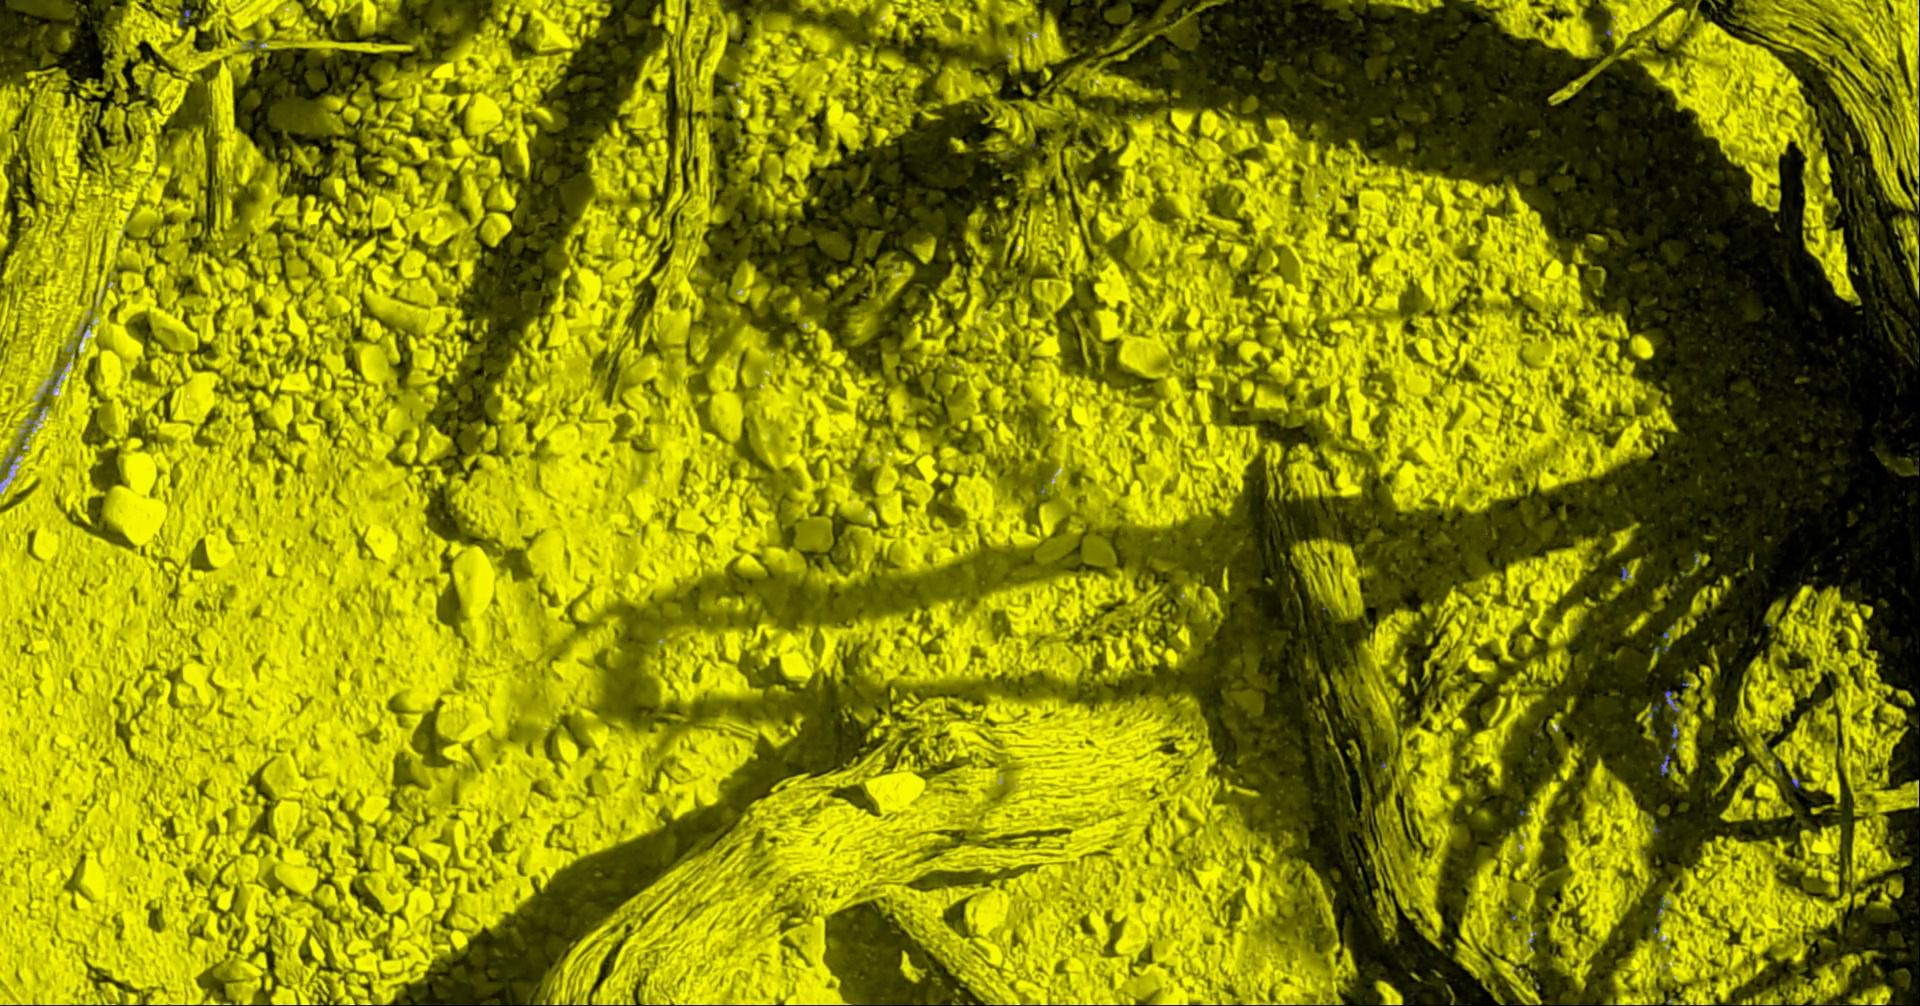ant: (1666, 688, 1680, 713), (1661, 753, 1672, 776)
